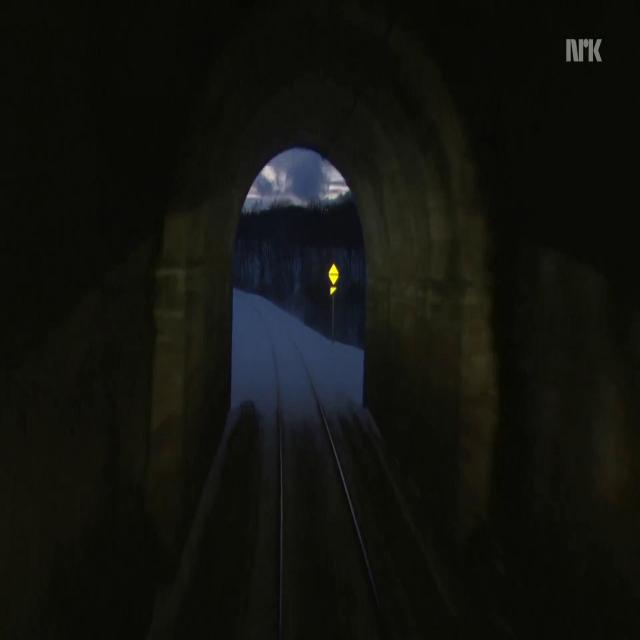rail-track: (259, 309, 386, 639)
